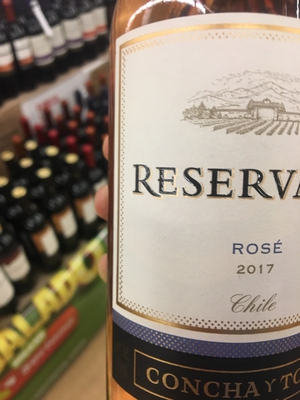reservado rose: (108, 1, 300, 398)
